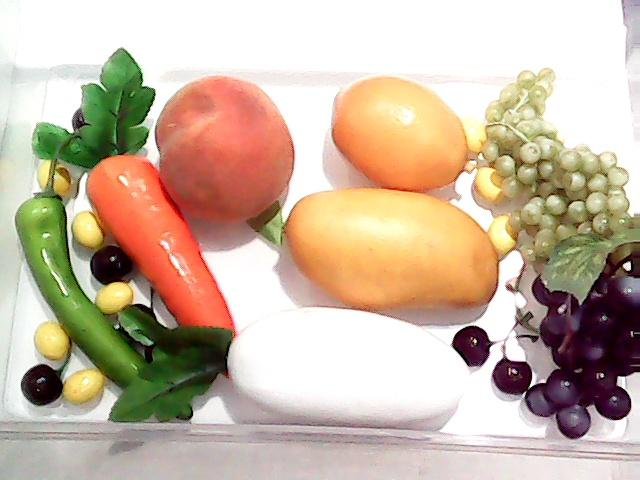carrot: (34, 42, 238, 376)
grape: (480, 61, 640, 269), (524, 244, 640, 444)
lemon: (327, 68, 469, 192)
mango: (285, 191, 503, 306)
peach: (155, 72, 297, 224)
pepper: (13, 170, 195, 422)
radish: (115, 306, 472, 433)
